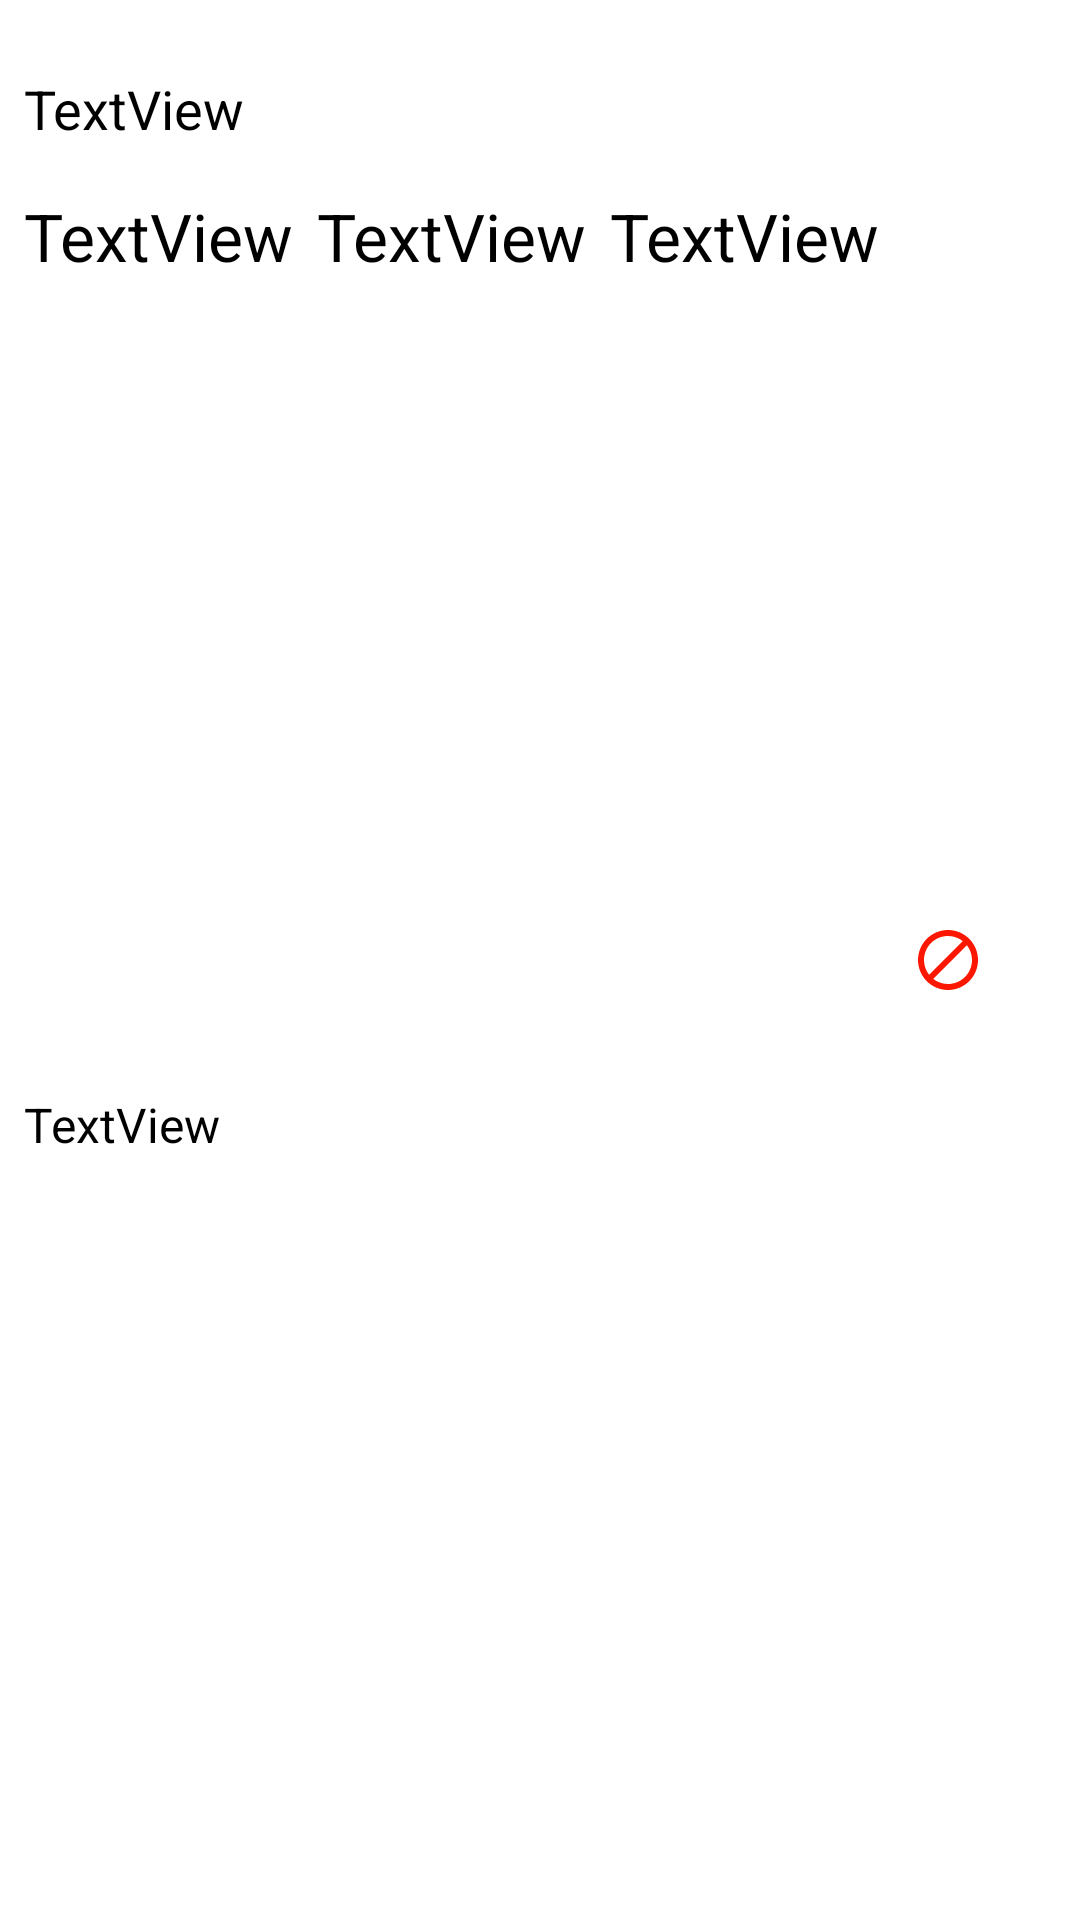

Where icons sit on this 1080 × 1920 app screen, as (x1, y1, x2, y2):
block: (918, 930, 978, 990)
